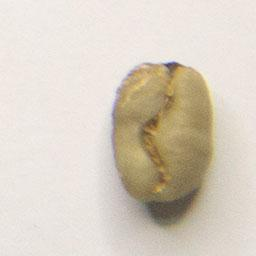defect: (104, 51, 223, 213)
